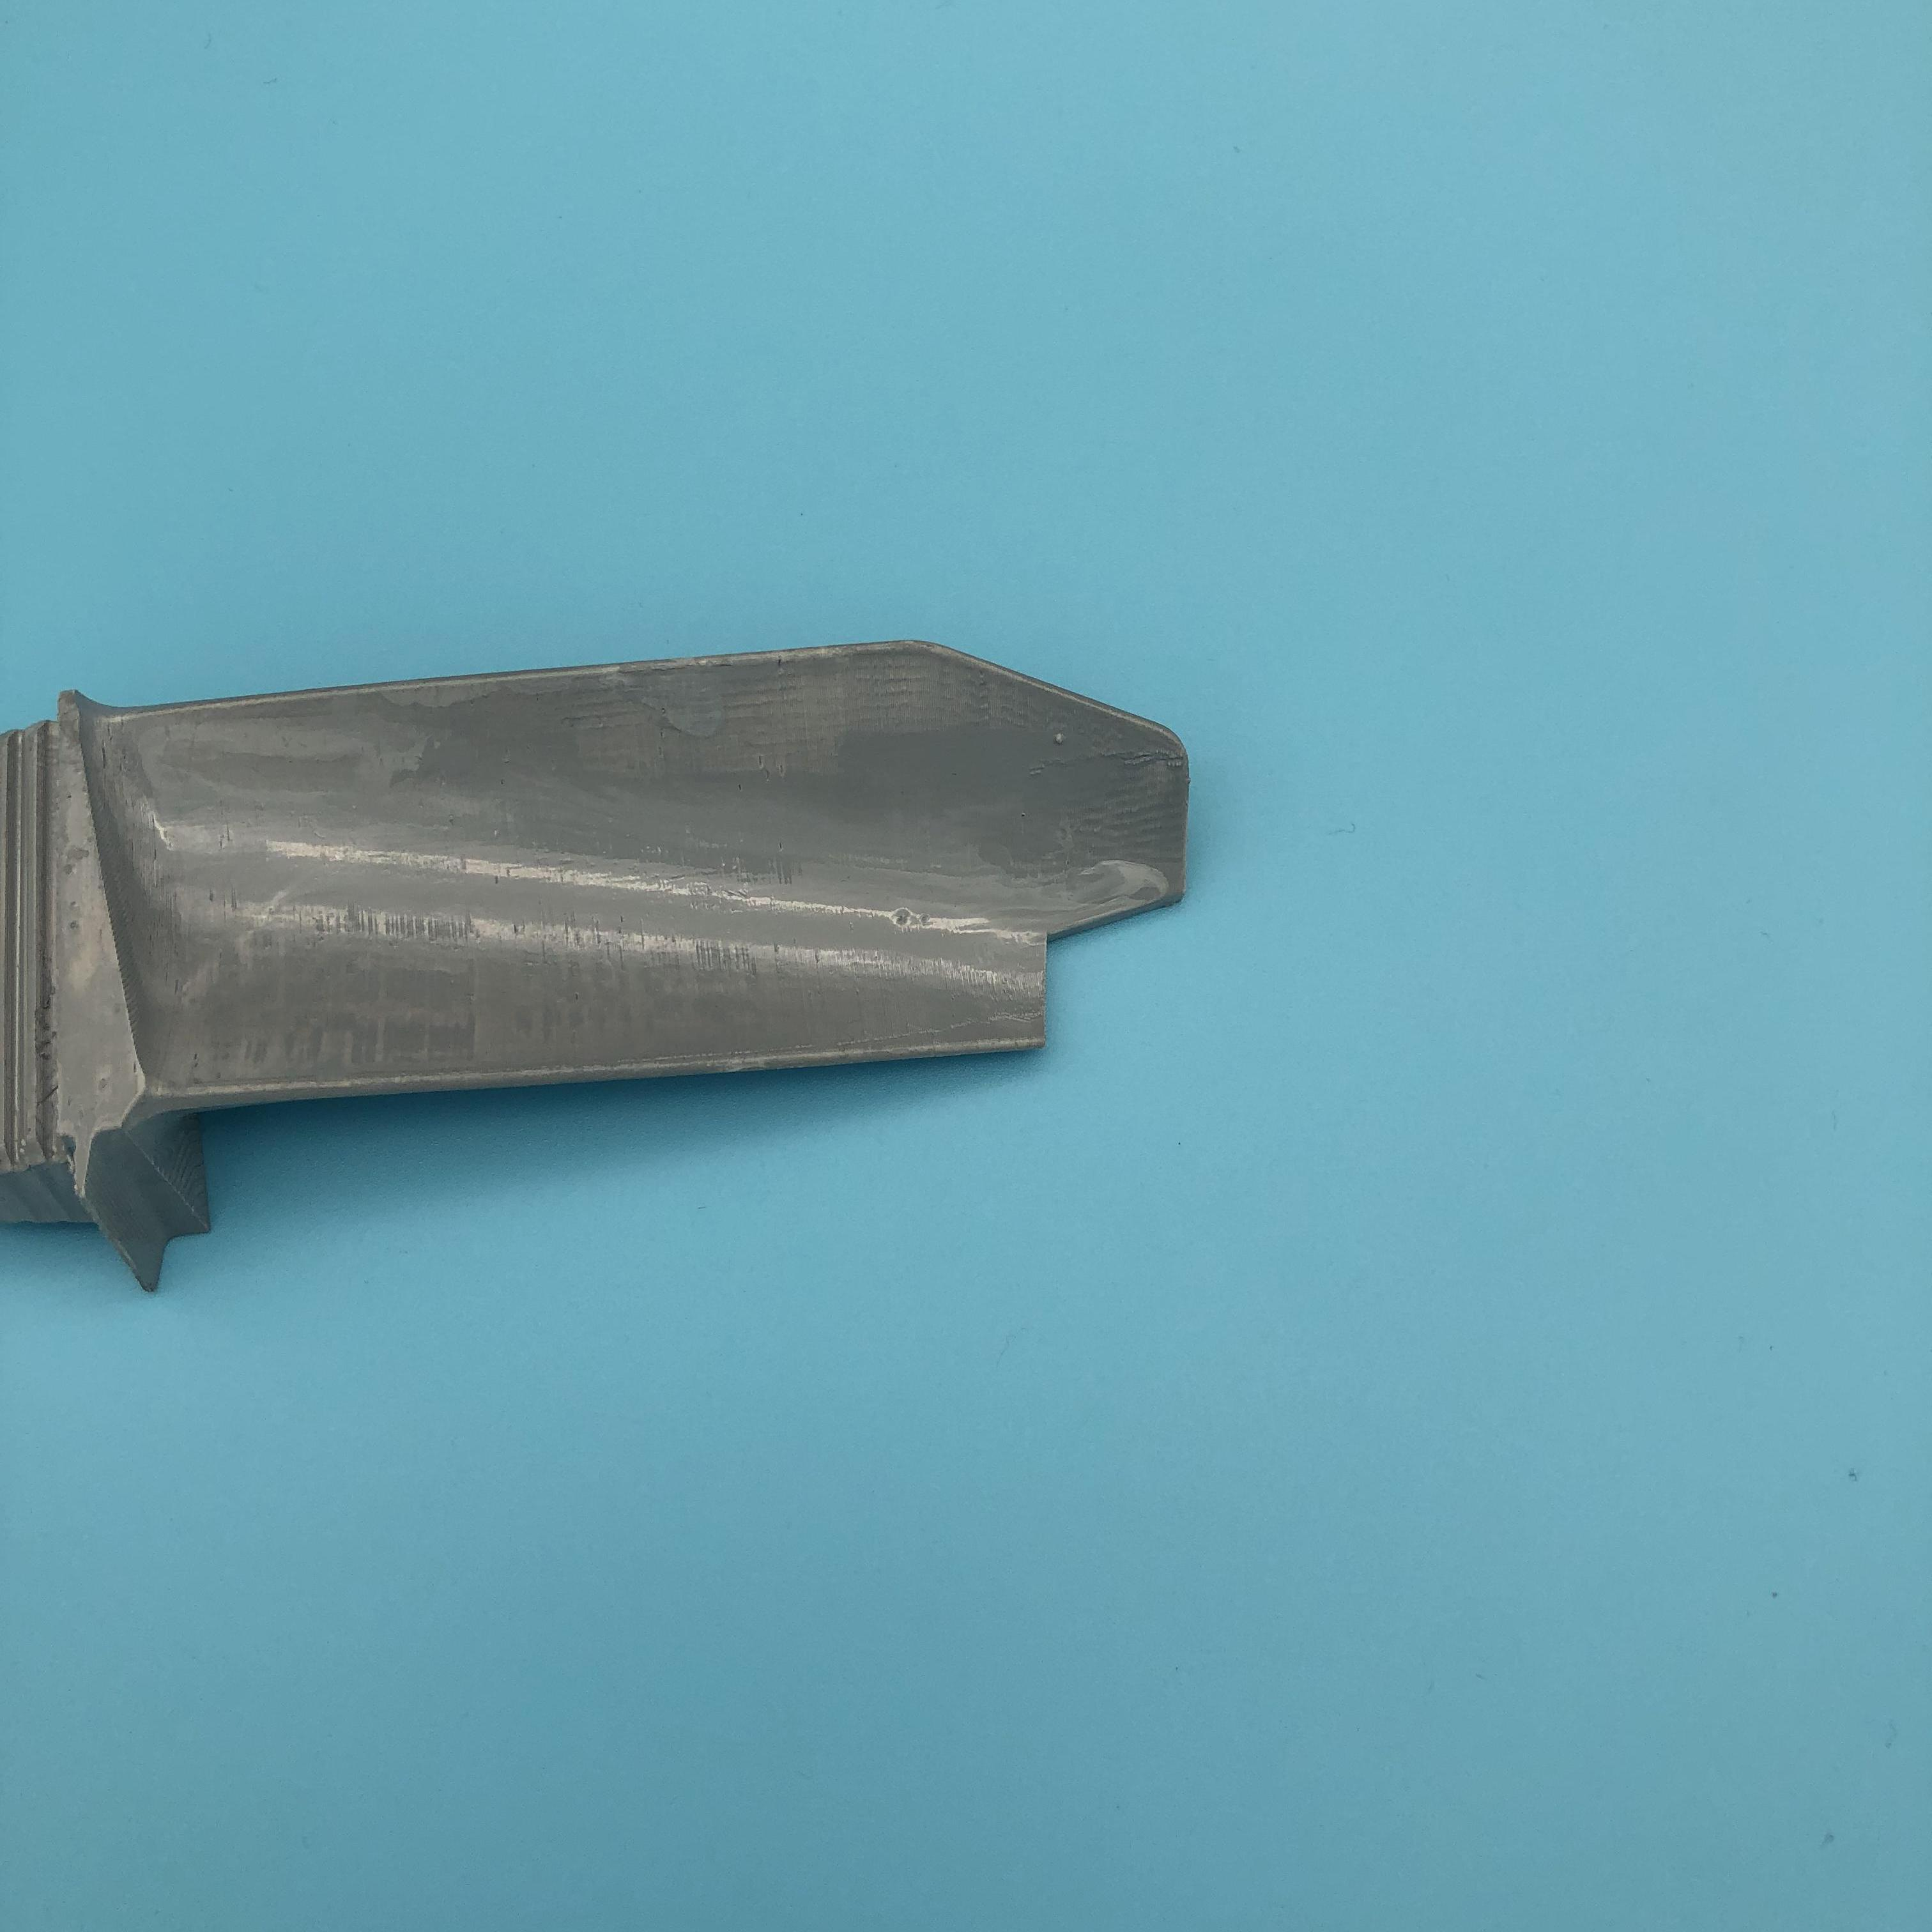fracture: (1012, 876, 1173, 1040)
